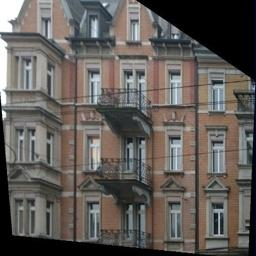building: (57, 0, 195, 256)
